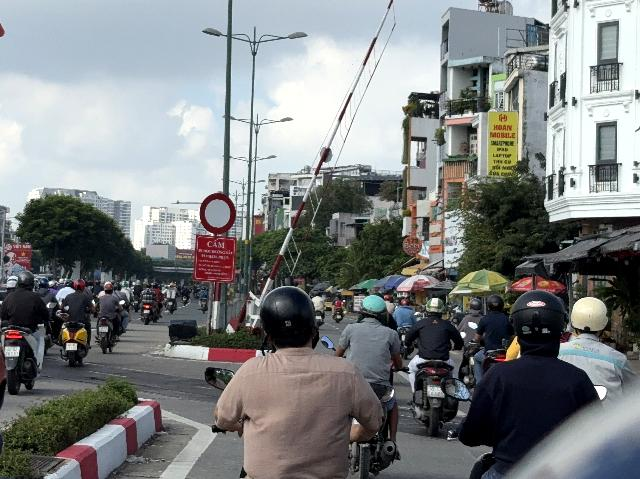duong-cam: (200, 194, 236, 234)
